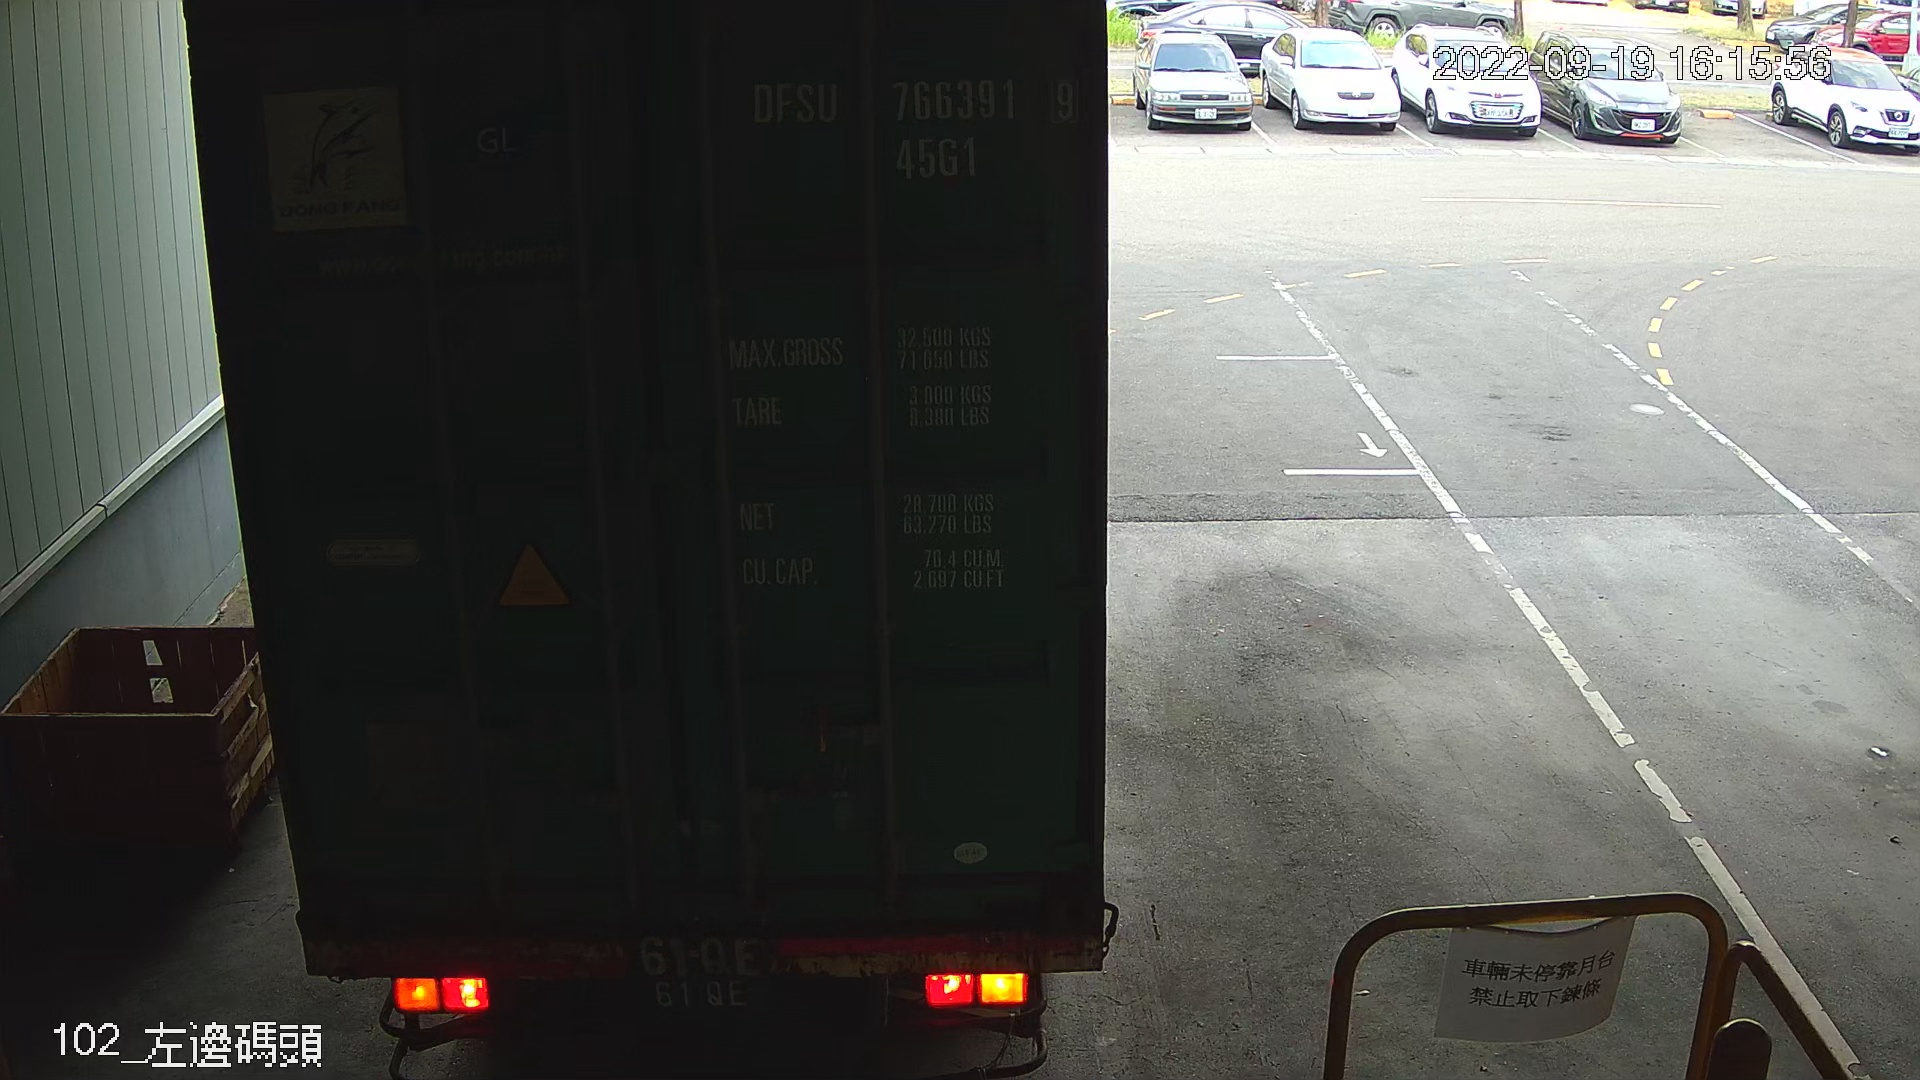container: (725, 57, 1089, 186)
